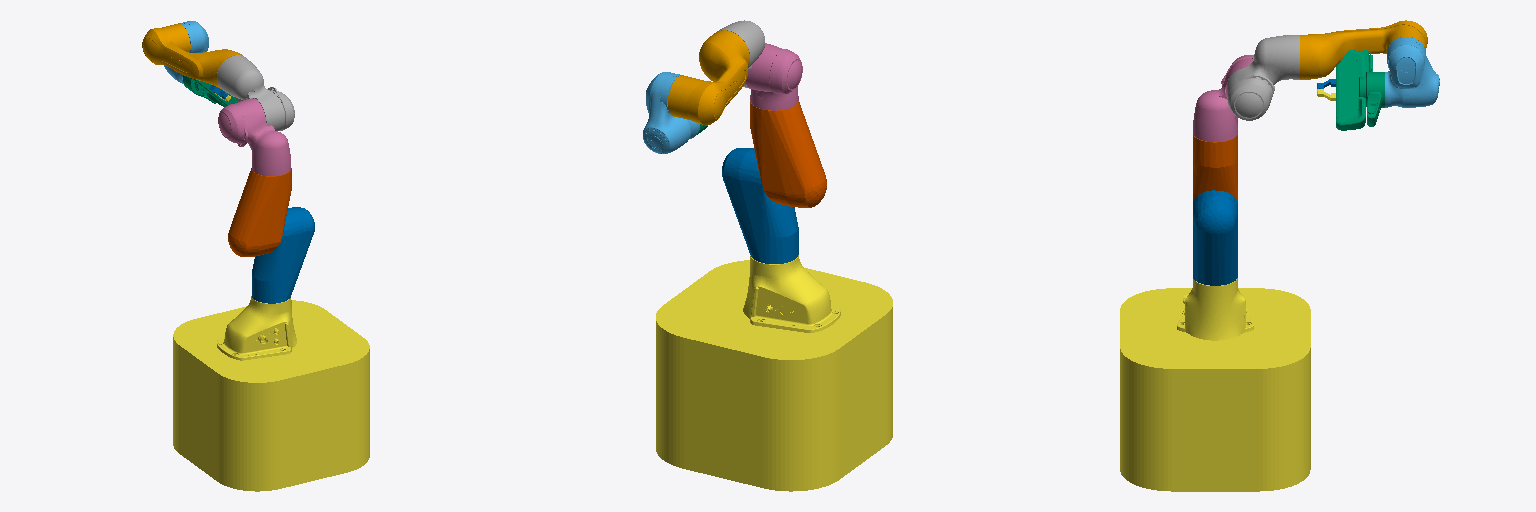
The robot description file, URDF, robot "mmp_panda":
<?xml version='1.0' encoding='utf-8'?>

<robot name="mmp_panda" version="1.0">

  <!-- GROUND LINK -->
  <link name ="ground_link">
    <inertial>
      <origin xyz="0.0 0.0 0.0" rpy="0 0 0" />
      <mass value="0.001" />
      <inertia ixx="1E-06" ixy="0.0" ixz="0.0" iyy="1E-06" iyz="0.0" izz="1E-06" />
    </inertial>
  </link>


  <!-- MOBILE BASE LINKS -->
  <link name ="base_x">
    <inertial>
      <origin xyz="0.0 0.0 0.0" rpy="0 0 0" />
      <mass value="0.001" />
      <inertia ixx="1E-06" ixy="0.0" ixz="0.0" iyy="1E-06" iyz="0.0" izz="1E-06" />
    </inertial>
  </link>

  <link name = "base_y">
    <inertial>
      <origin xyz="0.0 0.0 0.0" rpy="0 0 0" />
      <mass value = "0.001" />
      <inertia ixx="1E-06" ixy="0.0" ixz="0.0" iyy="1E-06" iyz="0.0" izz="1E-06" />
    </inertial>
  </link>

  <!-- MOBILE BASE + LINK 0 OF PANDA ARM -->
  <link name = "base_link">
    <inertial>
      <origin xyz="0.0 0.0 0.1757" rpy="0 0 0" />
      <mass value = "64.6" />
      <inertia ixx="1.721" ixy="0.0" ixz="0.0" iyy="1.712" iyz="0.0" izz="2.030" />
    </inertial>
    <visual>
      <geometry>
        <mesh filename="meshes/panda_BaseCombo.stl" />
      </geometry>
    </visual>
  </link>

  <!-- PANDA ARM LINKS --> 
<!--<link name="link0">
    <inertial>
      <origin xyz="0 0 0.05" rpy="0 0 0" />
      <mass value="4" />
      <inertia ixx="0.4" iyy="0.4" izz="0.4" ixy="0" ixz="0" iyz="0" />
    </inertial>
    <visual>
      <geometry>
        <mesh filename="../panda/meshes/visual/link0.stl"/>
      </geometry>
    </visual>
<!      <collision>
        <geometry>
          <mesh filename="../panda/meshes/collision/link0.stl"/>
        </geometry>
      </collision> 
  </link> -->
  <link name="link1">
    <inertial>
      <origin xyz="0 0 -0.07" rpy="0 -0 0" />
      <mass value="4" />
      <inertia ixx="0.3" iyy="0.3" izz="0.3" ixy="0" ixz="0" iyz="0" />
    </inertial>
    <visual>
      <geometry>
        <mesh filename="../panda/meshes/visual/link1.stl"/>
      </geometry>
    </visual>
    <!-- <collision>
      <geometry>
        <mesh filename="../panda/meshes/collision/link1.stl"/>
      </geometry>
    </collision> -->
  </link>
  <link name="link2">
    <inertial>
      <origin xyz="0 -0.1 0" rpy="0 -0 0" />
      <mass value="3" />
      <inertia ixx="0.3" iyy="0.3" izz="0.3" ixy="0" ixz="0" iyz="0" />
    </inertial>
    <visual>
      <geometry>
        <mesh filename="../panda/meshes/visual/link2.stl"/>
      </geometry>
    </visual>
    <!-- <collision>
      <geometry>
        <mesh filename="../panda/meshes/collision/link2.stl"/>
      </geometry>
    </collision> -->
  </link>
  <link name="link3">
    <inertial>
      <origin xyz="0.04 0 -0.05" rpy="0 -0 0" />
      <mass value="3" />
      <inertia ixx="0.2" iyy="0.2" izz="0.2" ixy="0" ixz="0" iyz="0" />
    </inertial>
    <visual>
      <geometry>
        <mesh filename="../panda/meshes/visual/link3.stl"/>
      </geometry>
    </visual>
    <!-- <collision>
      <geometry>
        <mesh filename="../panda/meshes/collision/link3.stl"/>
      </geometry>
    </collision> -->
  </link>
  <link name="link4">
    <inertial>
      <origin xyz="-0.04 0.05 0" rpy="0 -0 0" />
      <mass value="3" />
      <inertia ixx="0.2" iyy="0.2" izz="0.2" ixy="0" ixz="0" iyz="0" />
    </inertial>
    <visual>
      <geometry>
        <mesh filename="../panda/meshes/visual/link4.stl"/>
      </geometry>
    </visual>
<!--       <collision>
      <geometry>
        <mesh filename="../panda/meshes/collision/link4.stl"/>
      </geometry>
    </collision> -->
  </link>
  <link name="link5">
    <inertial>
      <origin xyz="0 0 -0.15" rpy="0 -0 0" />
      <mass value="3" />
      <inertia ixx="0.2" iyy="0.2" izz="0.2" ixy="0" ixz="0" iyz="0" />
    </inertial>
    <visual>
      <geometry>
        <mesh filename="../panda/meshes/visual/link5.stl"/>
      </geometry>
    </visual>
<!--       <collision>
      <geometry>
        <mesh filename="../panda/meshes/collision/link5.stl"/>
      </geometry>
    </collision> -->
  </link>
  <link name="link6">
    <inertial>
      <origin xyz="0.06 0 0" rpy="0 -0 0" />
      <mass value="2" />
      <inertia ixx="0.1" iyy="0.1" izz="0.1" ixy="0" ixz="0" iyz="0" />
    </inertial>
    <visual>
      <geometry>
        <mesh filename="../panda/meshes/visual/link6.stl"/>
      </geometry>
    </visual>
    <!-- <collision>
      <geometry>
        <mesh filename="../panda/meshes/collision/link6.stl"/>
      </geometry>
    </collision> -->
  </link>
  <link name="link7">
    <inertial>
      <origin xyz="0 0 0.17" rpy="0 -0 0" />
      <mass value="3.0" />
      <inertia ixx="0.09" iyy="0.05" izz="0.07" ixy="0" ixz="0" iyz="0" />
    </inertial>
    <visual>
      <geometry>
        <mesh filename="../panda/meshes/visual/link7.stl"/>
      </geometry>
    </visual>
    <visual>
      <origin xyz="0 0 0.107" rpy="0 0 -0.78539816339" />
      <geometry>
        <mesh filename="../panda/meshes/visual/hand.stl"/>
      </geometry>
    </visual>
    <!-- <collision>
      <geometry>
        <mesh filename="../panda/meshes/collision/link7.stl"/>
      </geometry>
    </collision> -->
  </link>

  <link name="leftfinger">
    <inertial>
      <origin xyz="0 0 0.05" rpy="0 -0 0" />
      <mass value="0.1" />
      <inertia ixx="0.01" iyy="0.01" izz="0.005" ixy="0" ixz="0" iyz="0" />
    </inertial>
    <visual>
      <origin xyz="0.0 0.0 0.0" rpy="0.0 0.0 0.0"/>
      <geometry>
        <mesh filename="../panda/meshes/visual/finger.stl"/>
      </geometry>
    </visual>
    <collision>
      <origin xyz="0 0.005 0.043" rpy="0 0 0" />
      <geometry>
        <box size="0.02 0.01 0.02"/>
      </geometry>
    </collision>
  </link>

  <link name="rightfinger">
    <inertial>
      <origin xyz="0 0 0.05" rpy="0 -0 0" />
      <mass value="0.1" />
      <inertia ixx="0.01" iyy="0.01" izz="0.005" ixy="0" ixz="0" iyz="0" />
    </inertial>
    <visual>
      <origin xyz="0 0 0" rpy="0 0 3.14159265359" />
      <geometry>
        <mesh filename="../panda/meshes/visual/finger.stl"/>
      </geometry>
    </visual>
    <collision>
      <origin xyz="0 -0.005 0.043" rpy="0 0 0" />
      <geometry>
        <box size="0.02 0.01 0.02"/>
      </geometry>
    </collision>
  </link>


  <!-- JOINTS -->
  <joint name = "base_prismatic_x" type = "prismatic">
    <origin xyz = "0 0 0" rpy = "0 0 0"/> 
    <parent link = "ground_link" />
    <child link= "base_x"/>
    <axis xyz = "1 0 0" />
    <limit effort="87" lower="-2.8973" upper="2.9873" velocity="2.1750" />
  </joint>

  <joint name = "base_prismatic_y" type = "prismatic">
    <origin xyz = "0 0 0" rpy = "0 0 0"/> 
    <parent link = "base_x" />
    <child link= "base_y"/>
    <axis xyz = "0 1 0" />
    <limit effort="87" lower="-2.8973" upper="2.9873" velocity="2.1750" />
  </joint>

  <joint name = "base_revolute" type = "revolute">
    <origin xyz = "0 0 0.0" rpy = "0 0 0"/> 
    <parent link = "base_y" />
    <child link= "base_link"/>
    <axis xyz = "0 0 1" />
    <limit effort="87" lower="-2.8973" upper="2.8973" velocity="2.1750" />
  </joint>
<!--
  <joint name = "base_prismatic_link0" type = "prismatic">
    <origin xyz = "0 0 0.33" rpy = "0 0 0"/> 
    <parent link = "base_link" />
    <child link= "link0"/>
    <axis xyz = "0 0 1" />
    <limit effort="87" lower="-2.8973" upper="2.8973" velocity="2.1750" />
  </joint>
-->
  <joint name="joint1" type="revolute">
      <safety_controller k_position="100.0" k_velocity="40.0" soft_lower_limit="-2.8973" soft_upper_limit="2.8973"/>
      <origin rpy="0 0 1.5708" xyz="0 0 0.333"/>
      <parent link="base_link"/>
      <child link="link1"/>
      <axis xyz="0 0 1"/>
      <calibration falling="-80.0" />
      <limit effort="87" lower="-2.8973" upper="2.8973" velocity="2.1750"/>
  </joint>

  <joint name="joint2" type="revolute">
      <safety_controller k_position="100.0" k_velocity="40.0" soft_lower_limit="-1.7628" soft_upper_limit="1.7628"/>
      <origin rpy="-1.57079632679 0 0" xyz="0 0 0"/>
      <parent link="link1"/>
      <child link="link2"/>
      <axis xyz="0 0 1"/>
      <calibration falling="-45.0" />
      <limit effort="87" lower="-1.7628" upper="1.7628" velocity="2.1750"/>
  </joint>

  <joint name="joint3" type="revolute">
      <safety_controller k_position="100.0" k_velocity="40.0" soft_lower_limit="-2.8973" soft_upper_limit="2.8973"/>
      <origin rpy="1.57079632679 0 0" xyz="0 -0.316 0"/>
      <parent link="link2"/>
      <child link="link3"/>
      <axis xyz="0 0 1"/>
      <limit effort="87" lower="-2.8973" upper="2.8973" velocity="2.1750"/>
  </joint>

  <joint name="joint4" type="revolute">
      <safety_controller k_position="100.0" k_velocity="40.0" soft_lower_limit="-3.0718" soft_upper_limit="-0.0698"/>
      <origin rpy="1.57079632679 0 0" xyz="0.0825 0 0"/>
      <parent link="link3"/>
      <child link="link4"/>
      <axis xyz="0 0 1"/>
      <calibration falling="-125.0" />
      <limit effort="87" lower="-3.0718" upper="-0.0698" velocity="2.1750"/>
  </joint>

  <joint name="joint5" type="revolute">
      <safety_controller k_position="100.0" k_velocity="40.0" soft_lower_limit="-2.8973" soft_upper_limit="2.8973"/>
      <origin rpy="-1.57079632679 0 0" xyz="-0.0825 0.384 0"/>
      <parent link="link4"/>
      <child link="link5"/>
      <axis xyz="0 0 1"/>
      <limit effort="12" lower="-2.8973" upper="2.8973" velocity="2.6100"/>
  </joint>

  <joint name="joint6" type="revolute">
      <safety_controller k_position="100.0" k_velocity="40.0" soft_lower_limit="-0.0175" soft_upper_limit="3.7525"/>
      <origin rpy="1.57079632679 0 0" xyz="0 0 0"/>
      <parent link="link5"/>
      <child link="link6"/>
      <axis xyz="0 0 1"/>
      <calibration falling="80.0" />
      <limit effort="12" lower="-0.0175" upper="3.7525" velocity="2.6100"/>
  </joint>

  <joint name="joint7" type="revolute">
      <safety_controller k_position="100.0" k_velocity="40.0" soft_lower_limit="-2.8973" soft_upper_limit="2.8973"/>
      <origin rpy="1.57079632679 0 0" xyz="0.088 0 0"/>
      <parent link="link6"/>
      <child link="link7"/>
      <axis xyz="0 0 1"/>
      <limit effort="12" lower="-2.8973" upper="2.8973" velocity="2.6100"/>
  </joint>

  <joint name="finger_joint1" type="prismatic">
      <parent link="link7"/>
      <child link="leftfinger"/>
      <origin xyz="0 0 0.1654" rpy="0 0 -0.78539816339"/>
      <axis xyz="0 1 0"/>
      <calibration falling="0.04" />
      <limit effort="20" lower="0.0" upper="0.04" velocity="0.2"/>
  </joint>

  <joint name="finger_joint2" type="prismatic">
      <parent link="link7"/>
      <child link="rightfinger"/>
      <origin xyz="0 0 0.1654" rpy="0 0 -0.78539816339"/>
      <axis xyz="0 1 0"/>
      <calibration falling="-0.04" />
      <limit effort="20" lower="-0.04" upper="0" velocity="0.2"/>
  </joint>

<!--
   <joint name="joint1" type="revolute">
    <origin xyz="0 0 0.48643" rpy="3.1416 2.7629E-18 -3.14" />
    <parent link="base_link" />
    <child link="link1" />
    <axis xyz="0 0 1" />
    <limit lower="-10" upper="10" effort="39" velocity="0.8727" />
  </joint>

  <joint name="joint2" type="revolute">
    <origin xyz="0 0.005375 -0.12838" rpy="1.5708 2.1343E-17 -1.1102E-16" />
    <parent link="link1" />
    <child link="link2" />
    <axis xyz="0 0 1" />
    <calibration falling="-45.0" />
    <limit lower="-10" upper="10" effort="39" velocity="0.8727" />
  </joint>

  <joint name="joint3" type="revolute">
    <origin xyz="0 -0.21038 -0.006375" rpy="-1.5708 1.2326E-32 -2.9122E-16" />
    <parent link="link2" />
    <child link="link3" />
    <axis xyz="0 0 1" />
    <limit lower="-10" upper="10" effort="39" velocity="0.8727" />
  </joint>

  <joint name="joint4" type="revolute">
    <origin xyz="0 0.006375 -0.21038" rpy="1.5708 -6.6954E-17 -1.6653E-16" />
    <parent link="link3" />
    <child link="link4" />
    <axis xyz="0 0 1" />
    <calibration falling="-125.0" />
    <limit lower="-10" upper="10" effort="39" velocity="0.8727" />
  </joint>

  <joint name="joint5" type="revolute">
    <origin xyz="0 -0.20843 -0.006375" rpy="-1.5708 2.2204E-16 -6.373E-17" />
    <parent link="link4" />
    <child link="link5" />
    <axis xyz="0 0 1" />
    <limit lower="-10" upper="10" effort="9" velocity="0.8727" />
  </joint>

  <joint name="joint6" type="revolute">
    <origin xyz="0 0.00017505 -0.10593" rpy="1.5708 9.2076E-28 -8.2157E-15" />
    <parent link="link5" />
    <child link="link6" />
    <axis xyz="0 0 1" />
    <calibration falling="80.0" />
    <limit lower="-10" upper="10" effort="9" velocity="0.8727" />
  </joint>

  <joint name="joint7" type="revolute">
    <origin xyz="0 -0.10593 -0.00017505" rpy="-1.5708 -5.5511E-17 9.6396E-17" />
    <parent link="link6" />
    <child link="link7" />
    <axis xyz="0 0 1" />
    <limit lower="-10" upper="10" effort="9" velocity="0.8727" />
  </joint>
-->
  
</robot> 

--- Render facts (derived) ---
The picture shows the robot from 3 angles, left to right: view 1: azimuth 30°, elevation 25°; view 2: azimuth 150°, elevation 25°; view 3: azimuth 270°, elevation 25°; orthographic projection.
Robot: mmp_panda — 13 links, 12 joints (8 revolute, 4 prismatic); root link ground_link; default pose: joints at zero except 1 at the middle of their limits (joint4 = -1.57).
Links seen in each view (by area): view 1: base_link, link2, link1, link3, link5, link4, link6, link7; view 2: base_link, link2, link1, link5, link3, link6, link4; view 3: base_link, link1, link4, link5, link7, link6, link2, link3.
Boxes of the visible links, bbox=[...] form: base_link: bbox=[173, 296, 369, 491]; link2: bbox=[228, 168, 291, 256]; link1: bbox=[252, 207, 314, 303]; link3: bbox=[218, 98, 290, 175]; link5: bbox=[142, 24, 242, 88]; link4: bbox=[217, 55, 294, 130]; link6: bbox=[164, 21, 208, 85]; link7: bbox=[183, 75, 237, 106]; base_link: bbox=[656, 255, 892, 491]; link2: bbox=[750, 101, 826, 207]; link1: bbox=[722, 148, 798, 263]; link5: bbox=[668, 30, 749, 125]; link3: bbox=[746, 43, 802, 110]; link6: bbox=[643, 72, 699, 153]; link4: bbox=[717, 20, 764, 88]; base_link: bbox=[1120, 278, 1310, 491]; link1: bbox=[1193, 190, 1237, 285]; link4: bbox=[1227, 35, 1299, 120]; link5: bbox=[1300, 20, 1427, 79]; link7: bbox=[1336, 50, 1384, 130]; link6: bbox=[1385, 37, 1439, 107]; link2: bbox=[1193, 134, 1237, 201]; link3: bbox=[1193, 55, 1253, 141].
Bounding box of the posed robot: 0.465 × 0.7807 × 1.12 m (x, y, z).
Meshes: 10 distinct files referenced, 11 mesh visuals loaded (10 binary STL).
